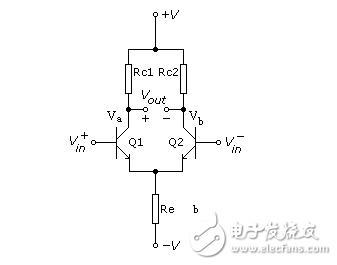res1: (123, 61, 132, 95), (178, 61, 187, 95), (150, 191, 159, 225)
triode: (113, 125, 133, 162), (179, 124, 198, 160)
